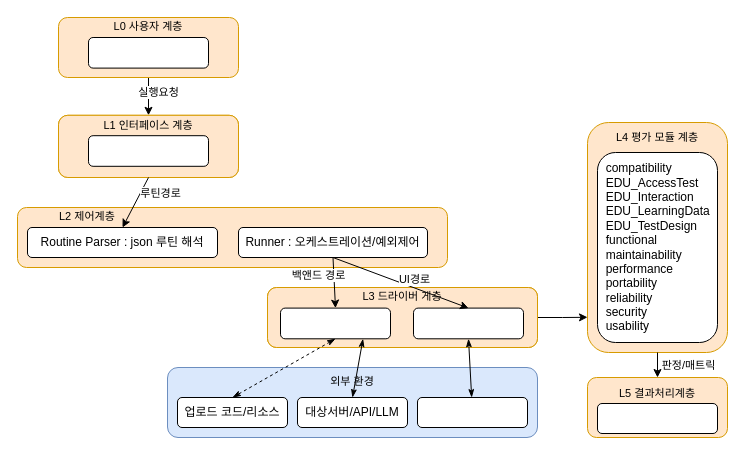
Image size: 745x455. Some labels were removed from this diagram. Here are the shapes that lost their labels. From the top down, the centre of each, then its label:
At point 148,52: "개발자".
At point 148,150: "CLI".
At point 335,323: "BackendDriver".
At point 468,323: "PlaywrightDriver".
At point 472,412: "브라우저 런타임".
At point 657,418: "Report Generator".
